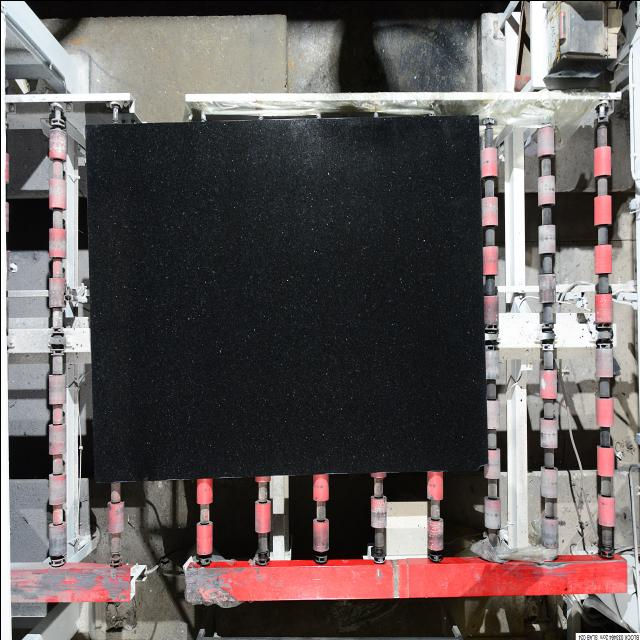chapa: (86, 115, 486, 481)
